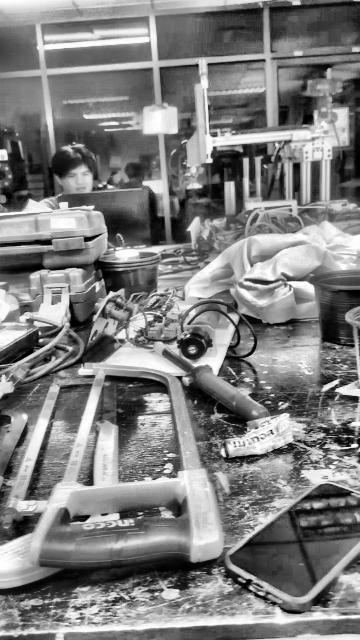pot: (309, 269, 360, 348)
